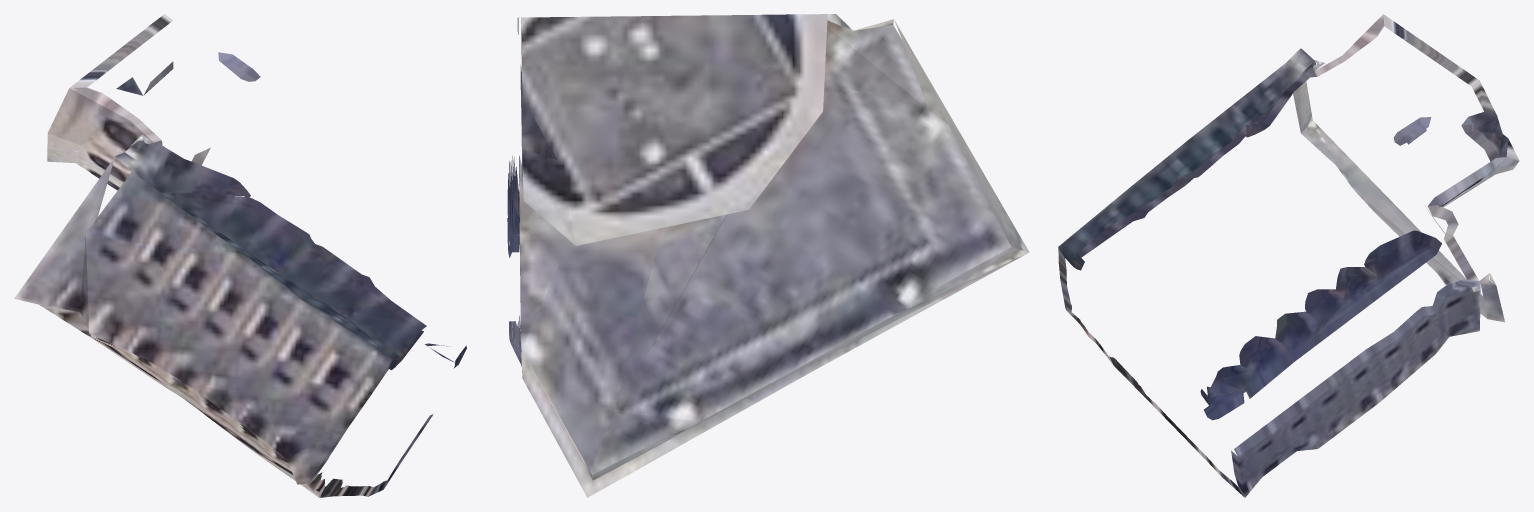
3 renders of one model, left to right at view 1: azimuth 30°, elevation 25°; view 2: azimuth 150°, elevation 25°; view 3: azimuth 270°, elevation 25°, orthographic. The views are drawn at different scales.
Bounding box in the file's own units: 37.9 × 36.84 × 40.99.
1 material, 1 textured.
